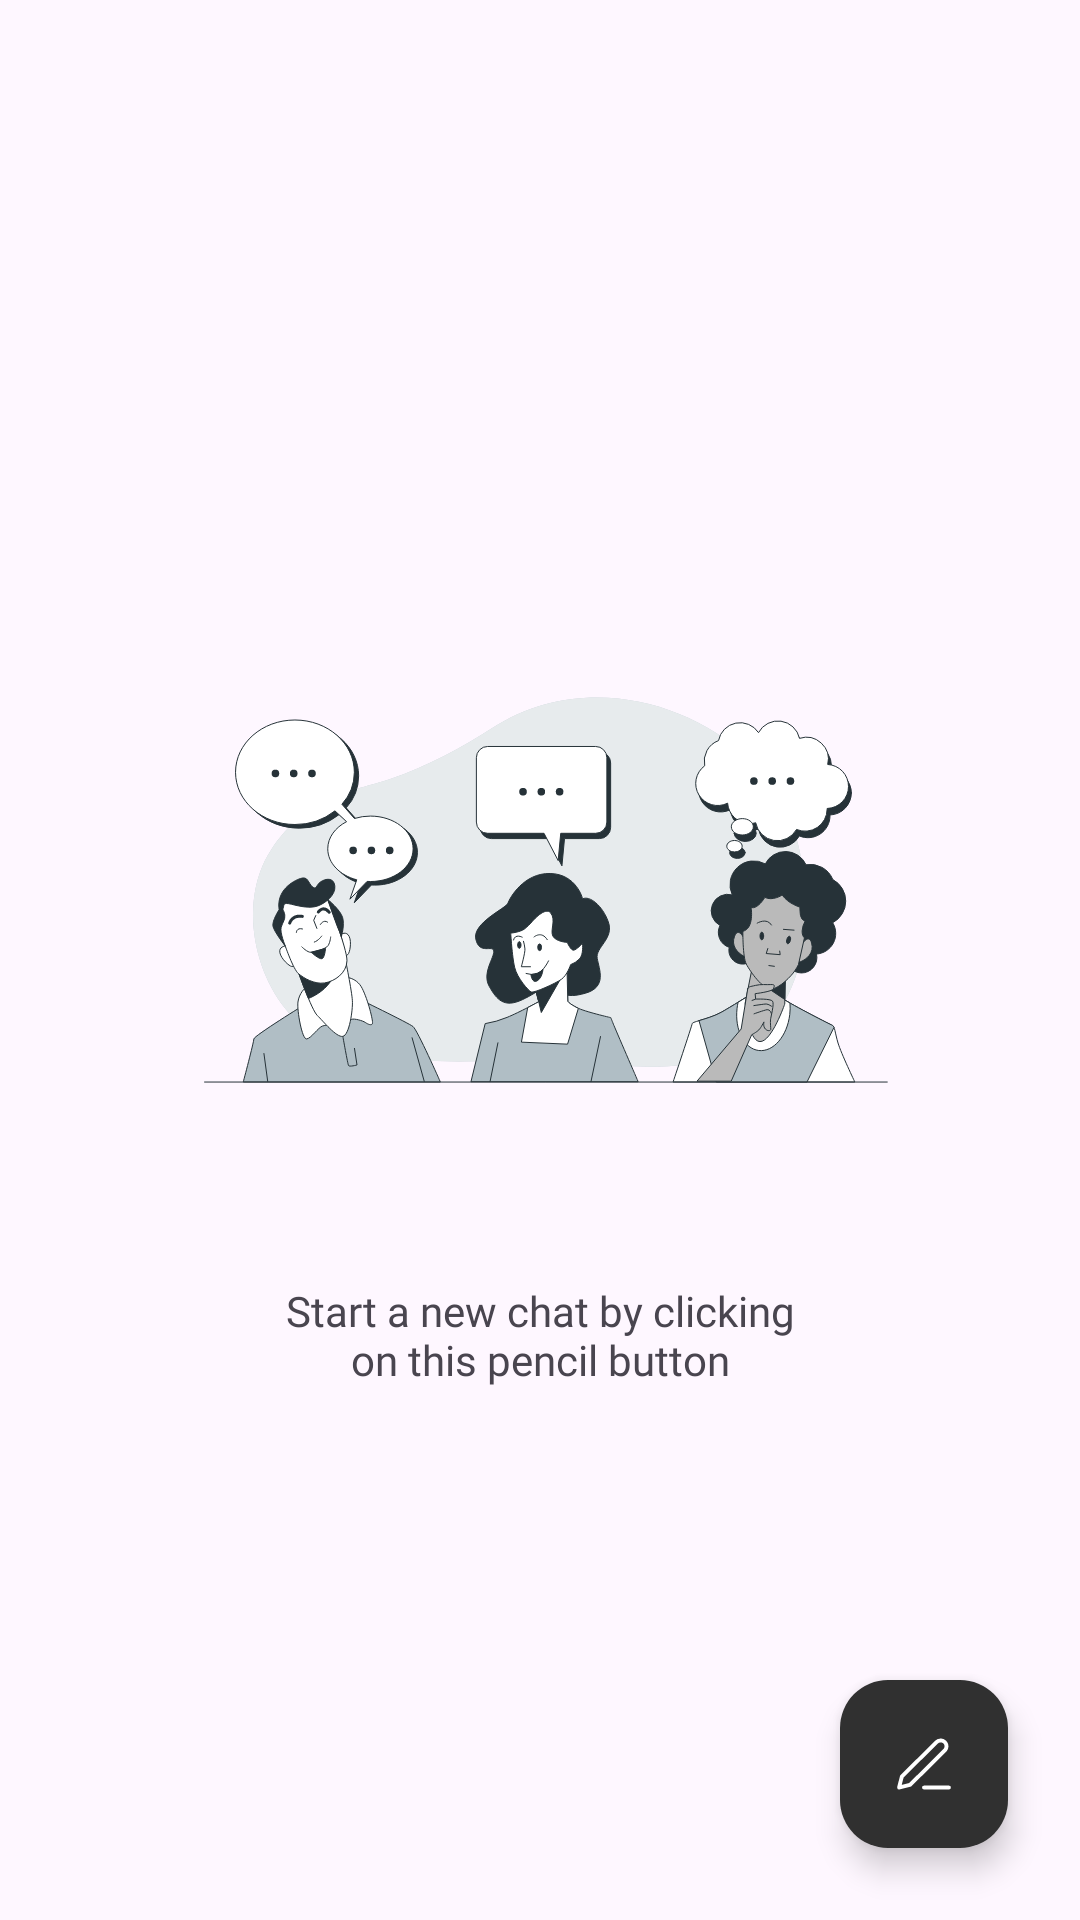

Locate icon controls on the screen. Image size 1080px×1920px, boxes as [x1,y1,x2,y2].
message botton: [840,1680,1008,1848]
